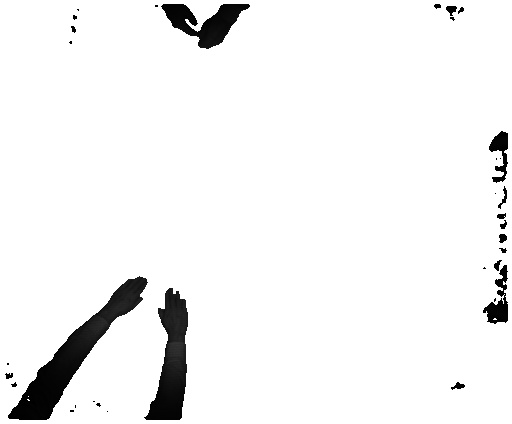hand: (105, 272, 153, 320), (159, 288, 191, 340), (161, 0, 201, 40), (199, 16, 237, 54)
